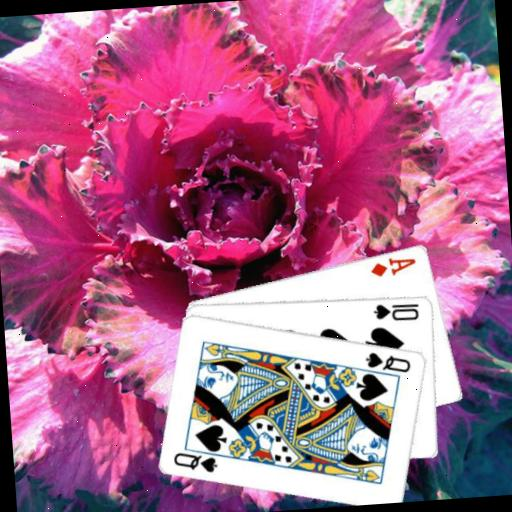10S: (371, 299, 422, 324)
AD: (368, 253, 419, 278)
QS: (361, 346, 413, 377), (170, 447, 220, 477)
